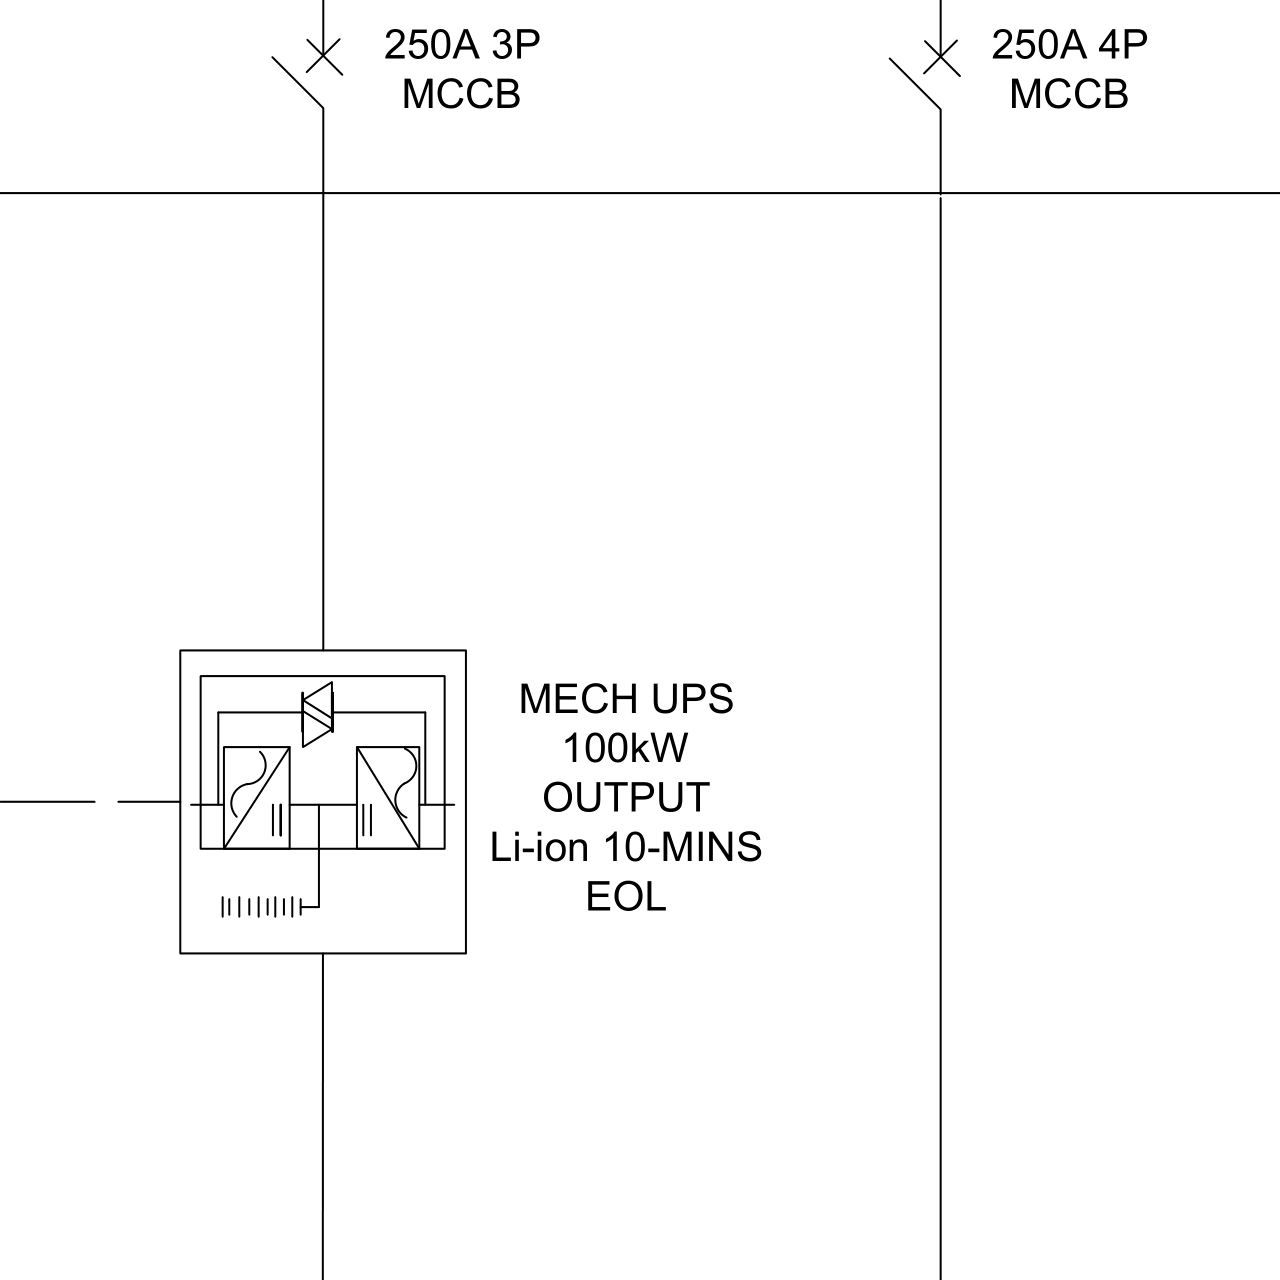UPS: (162, 635, 483, 969)
